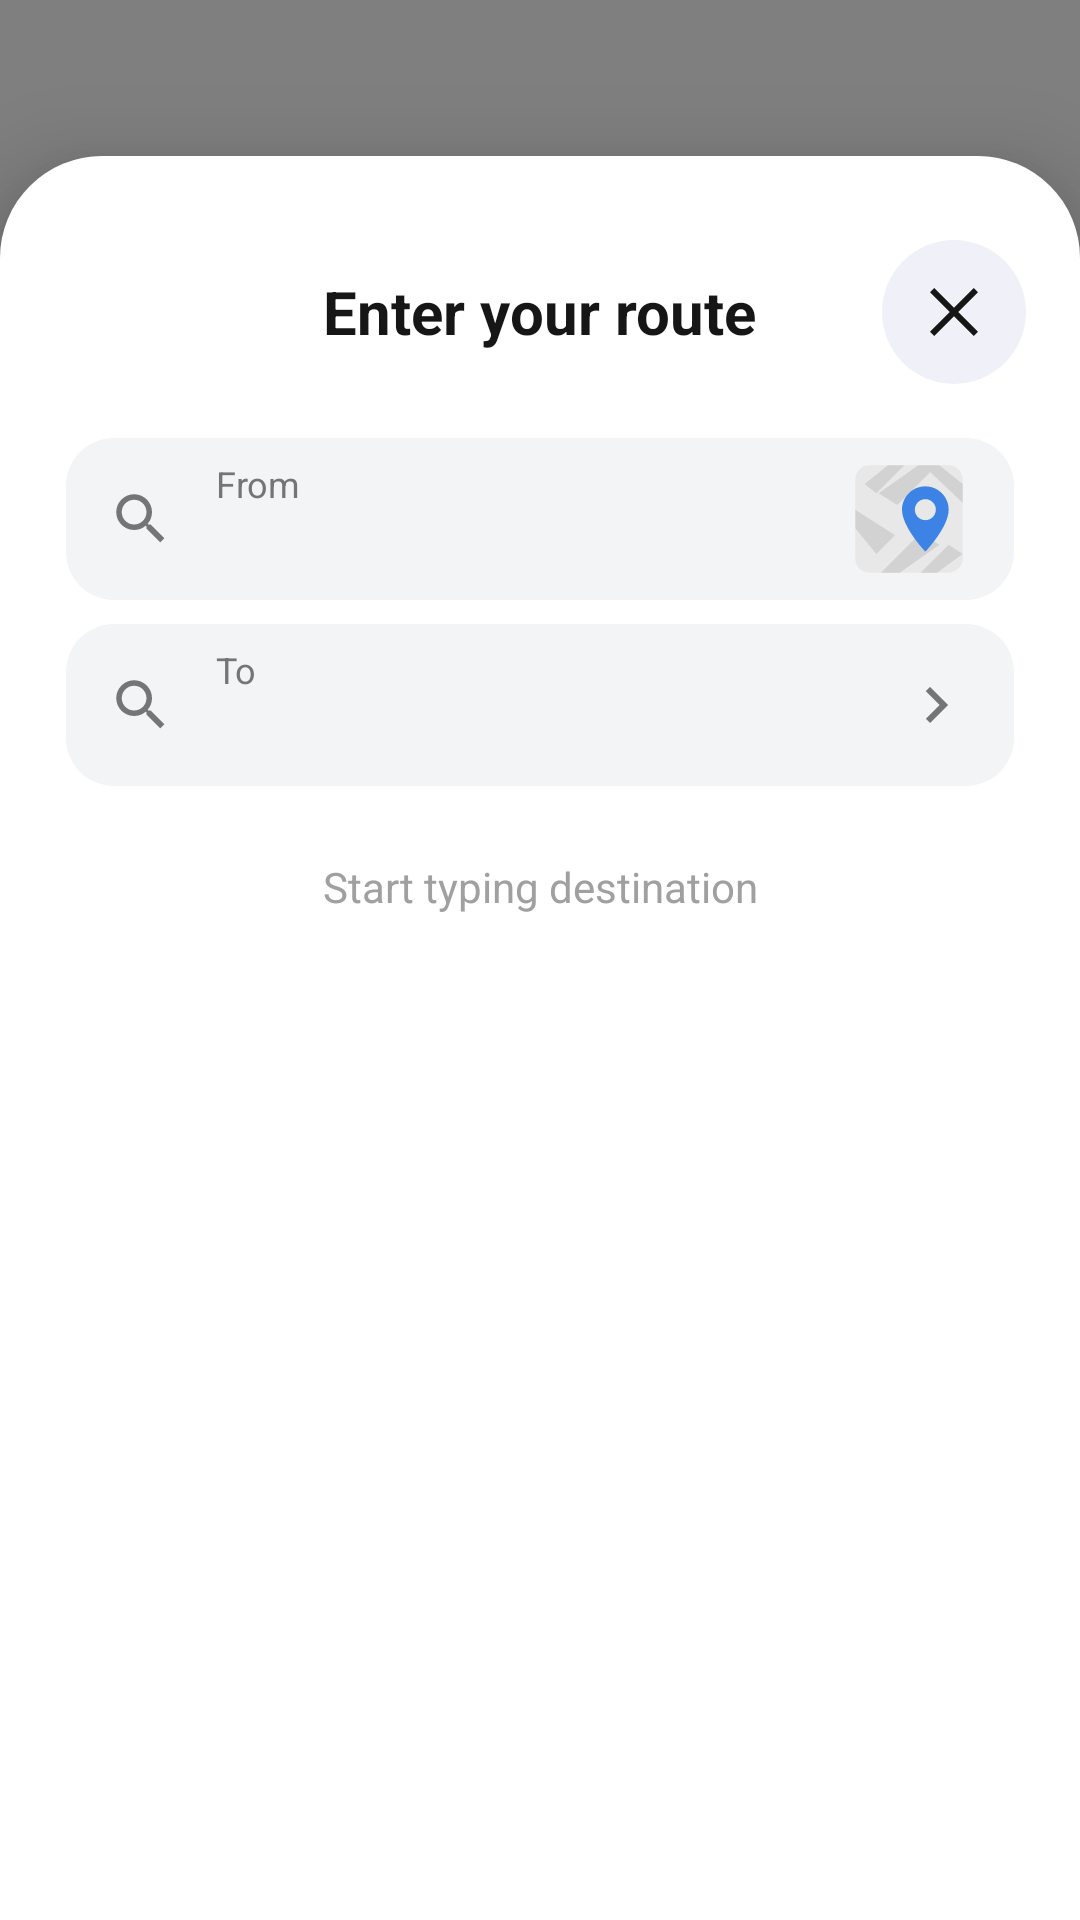

Screen size 1080x1920. Icon name, then its box in pixels as (x1, y1, x2, y2):
arrow right: (926, 687, 948, 723)
Close: (882, 240, 1026, 384)
search: (116, 494, 164, 542), (116, 680, 164, 728)
Use current pickup point: (855, 465, 963, 573)
